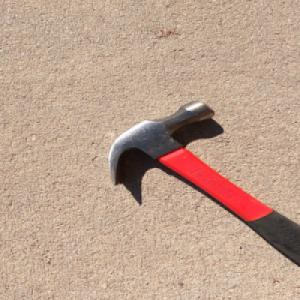Hammer: (104, 98, 300, 266)
